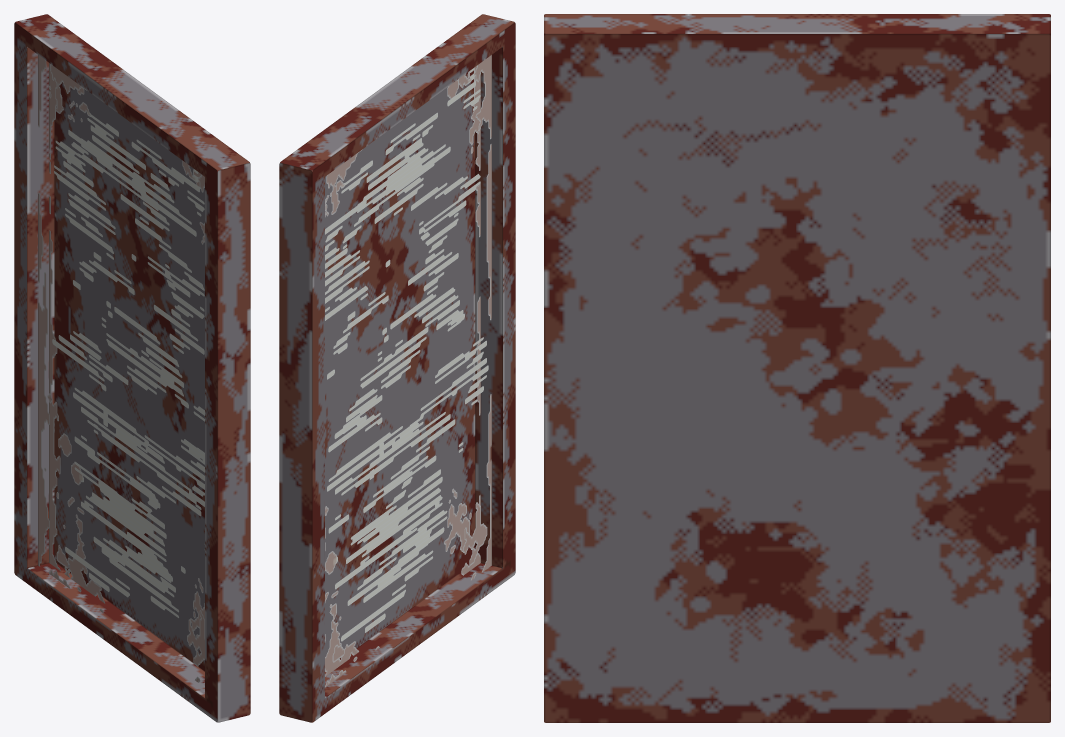
File: PosterHolder.fbx
3 renders of one model, left to right at view 1: azimuth 30°, elevation 25°; view 2: azimuth 150°, elevation 25°; view 3: azimuth 270°, elevation 25°, orthographic. The views are drawn at different scales.
Parts seen in each view (by area): view 1: posterFrame, ImagePlane, IntactGlass; view 2: posterFrame, ImagePlane, IntactGlass; view 3: posterFrame.
Part boxes in pixels (x1=…): posterFrame: x1=14, y1=14, x2=250, y2=722; ImagePlane: x1=49, y1=63, x2=204, y2=637; IntactGlass: x1=38, y1=55, x2=204, y2=682; posterFrame: x1=279, y1=14, x2=515, y2=722; ImagePlane: x1=325, y1=66, x2=480, y2=676; IntactGlass: x1=325, y1=55, x2=491, y2=687; posterFrame: x1=544, y1=14, x2=1050, y2=722.
Bounding box in the file's own units: 18.75 × 300 × 200.
1 material, 1 textured.
